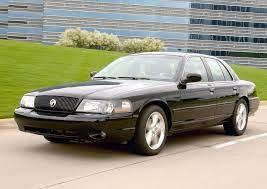Mercury: (48, 97, 61, 111)
